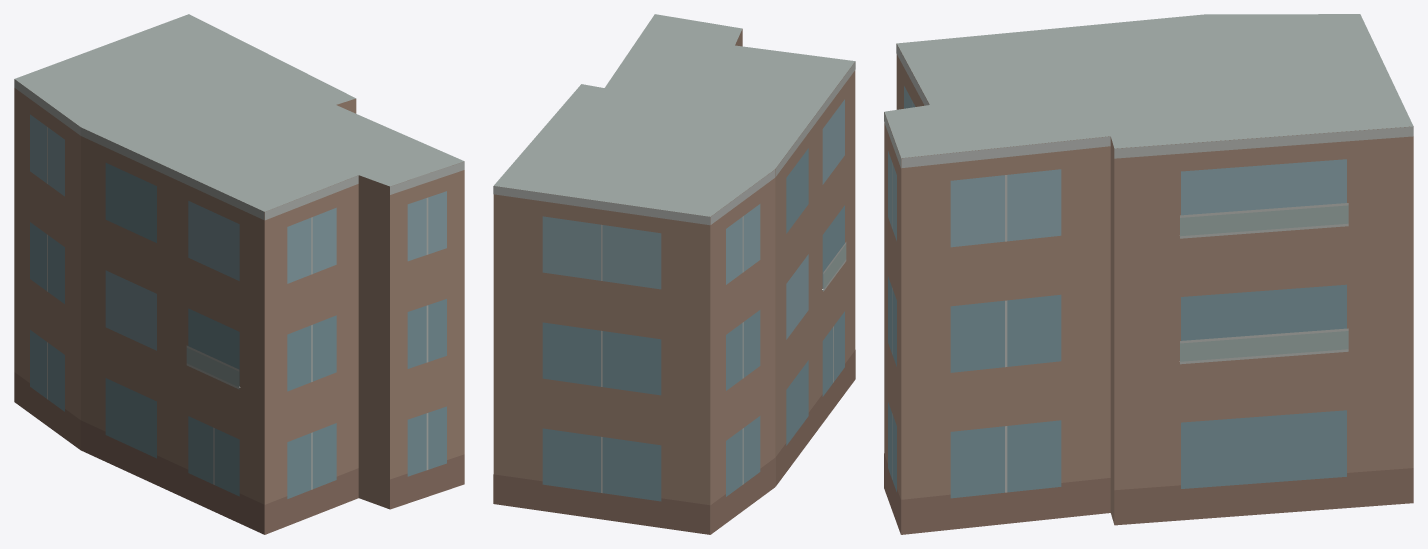
File: survey-upis-33037038.glb
The picture shows the model from 3 angles, left to right: view 1: azimuth 30°, elevation 25°; view 2: azimuth 150°, elevation 25°; view 3: azimuth 270°, elevation 25°; orthographic projection. The views are drawn at different scales.
Parts seen in each view (by area): view 1: survey-upis-33037038.tmp; view 2: survey-upis-33037038.tmp; view 3: survey-upis-33037038.tmp.
Part boxes in pixels (x1,y1,x2,y2): survey-upis-33037038.tmp: (14, 14, 464, 534); survey-upis-33037038.tmp: (493, 14, 855, 534); survey-upis-33037038.tmp: (884, 14, 1413, 534).
Bounding box in the file's own units: 7.52 × 9.15 × 11.67.
